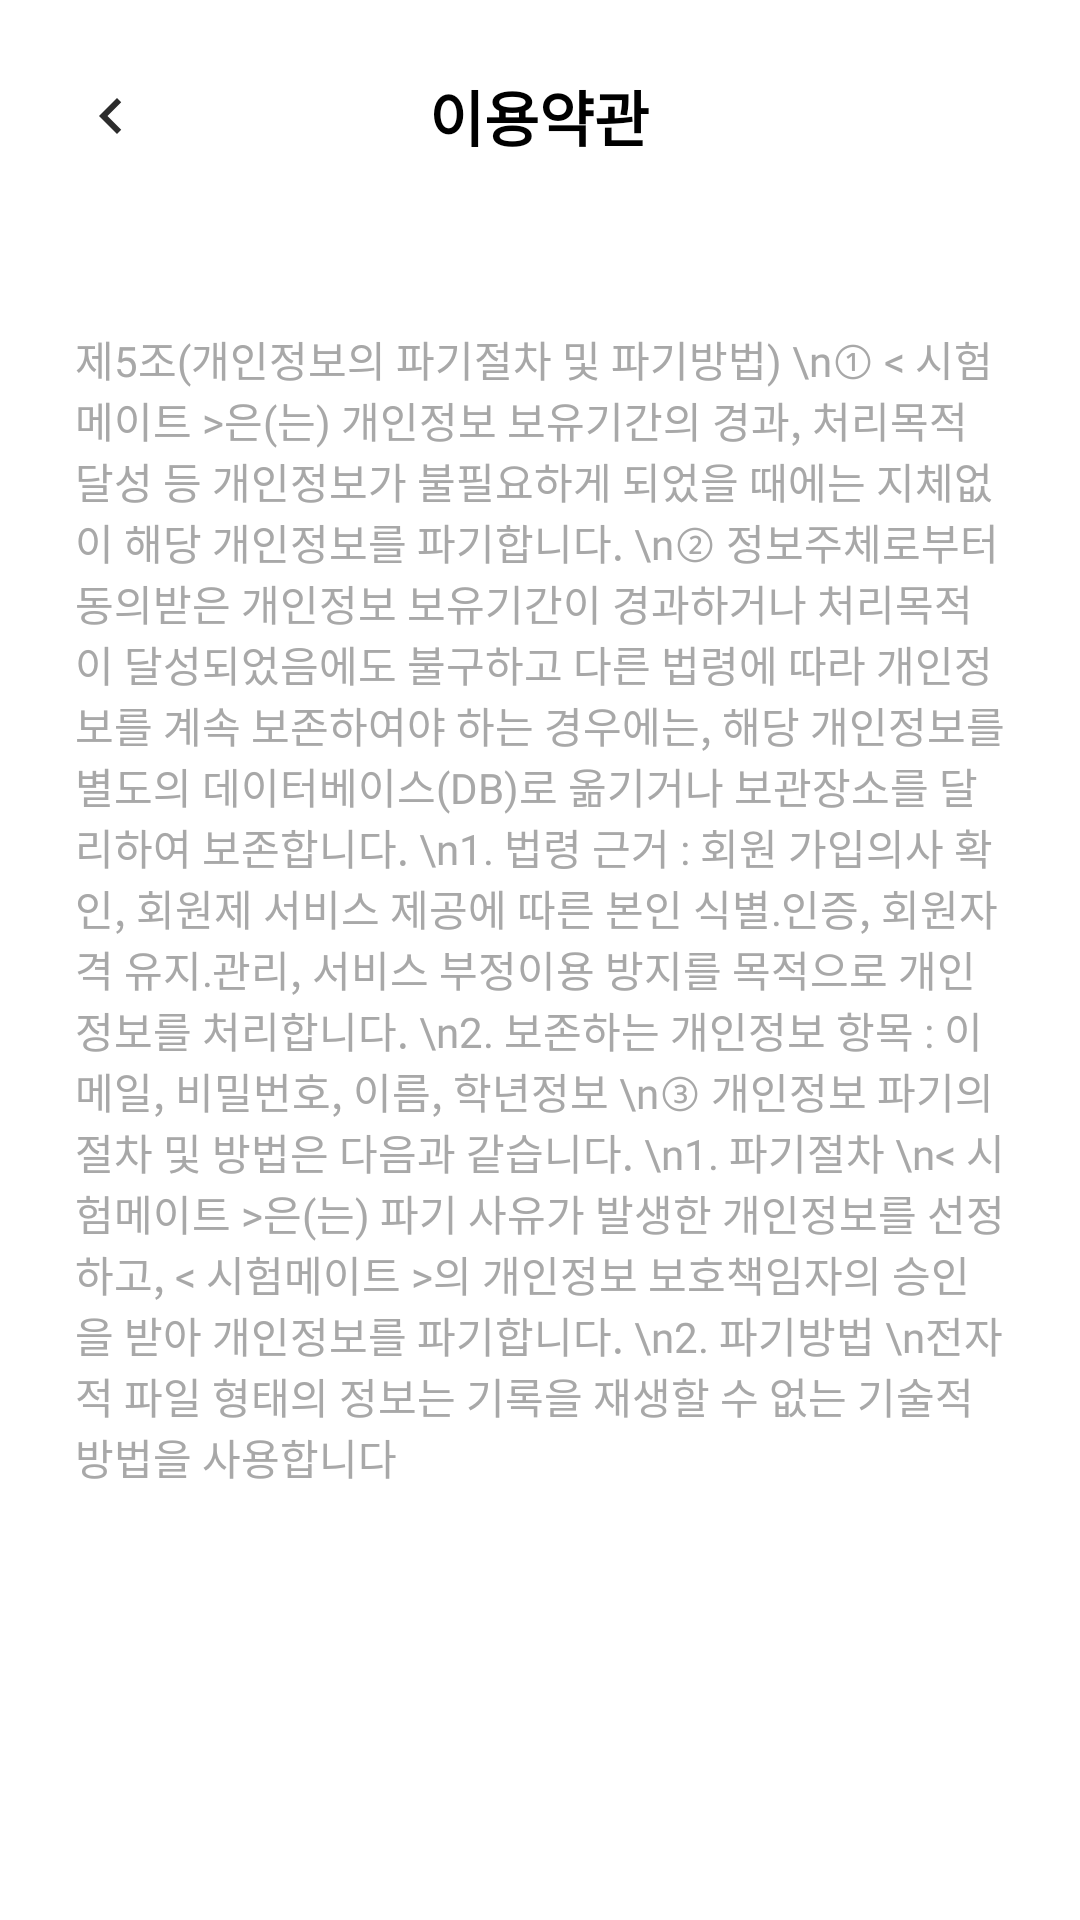

Icon click points for this 1080x1920 phone screenshot, format point (x, y):
before: point (110, 116)
